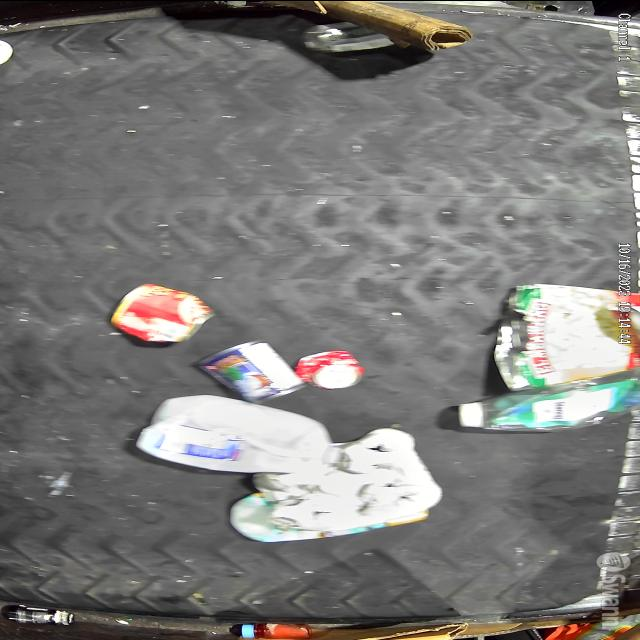can: (188, 338, 310, 404), (108, 280, 218, 344), (294, 348, 368, 392), (301, 23, 391, 53)
milk_jug: (134, 392, 342, 473)
plastic_bottle: (455, 374, 640, 434)
